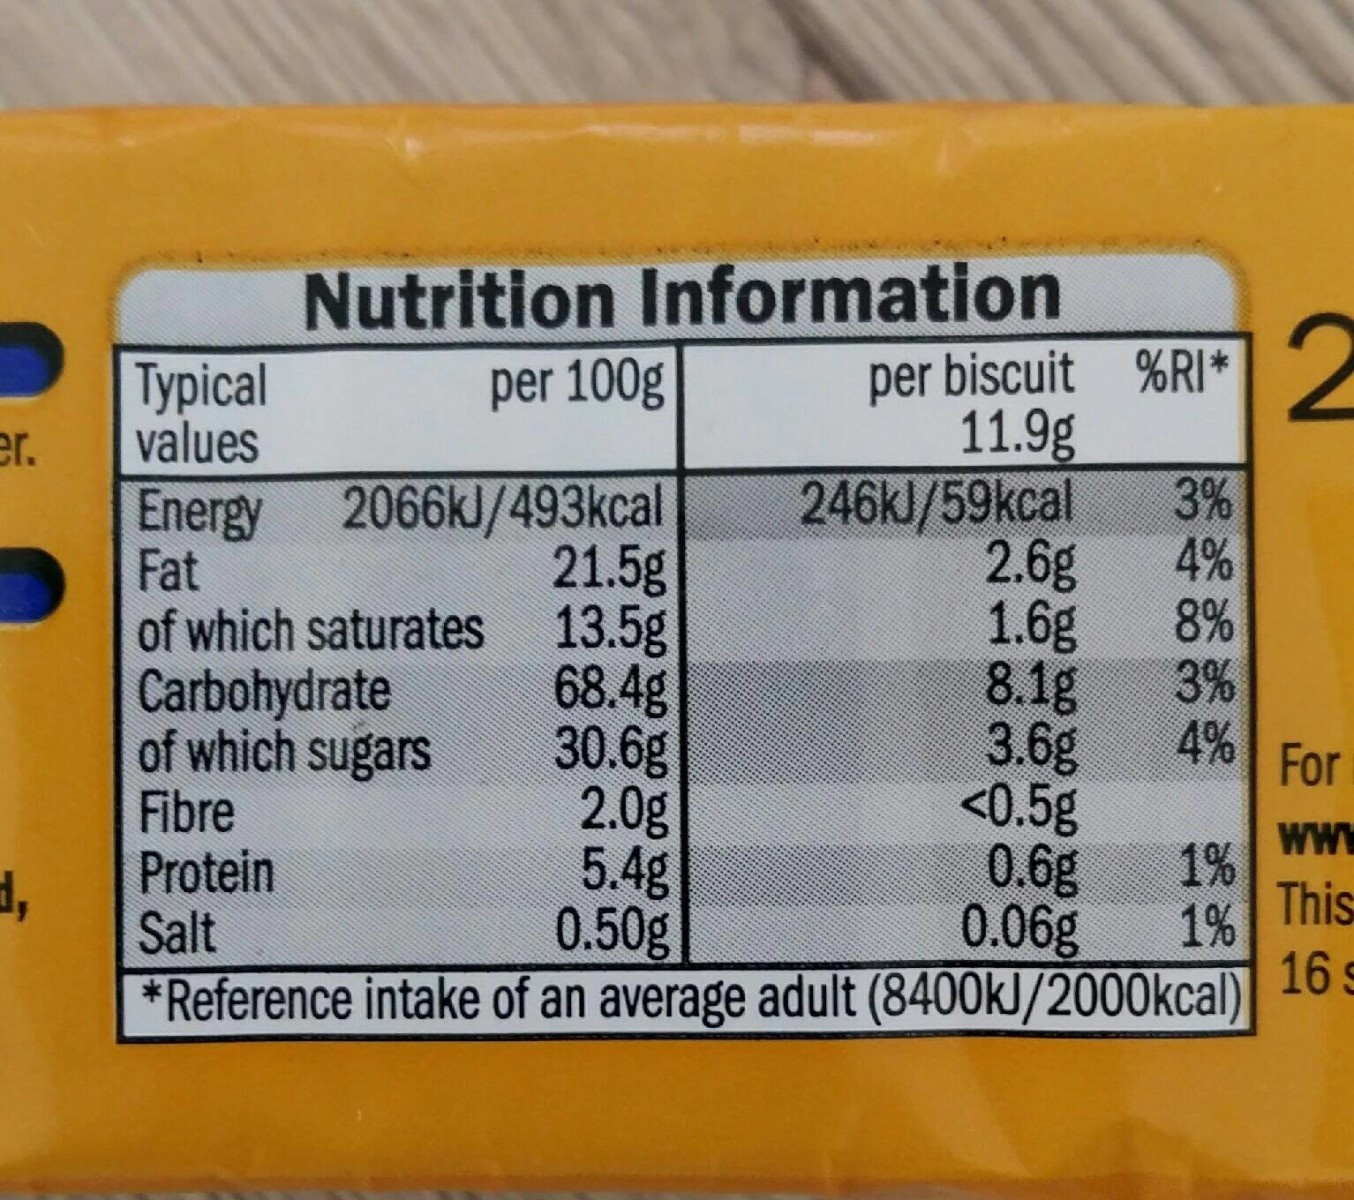column: (130, 360, 676, 965), (797, 344, 1086, 959), (1132, 346, 1239, 956)
table: (101, 243, 1267, 974)
